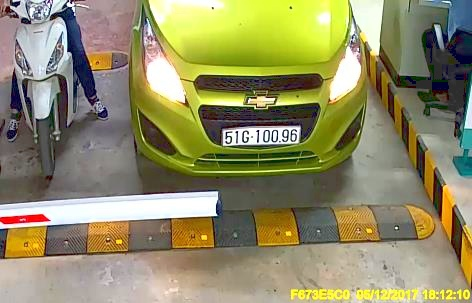plate: (219, 121, 305, 151)
